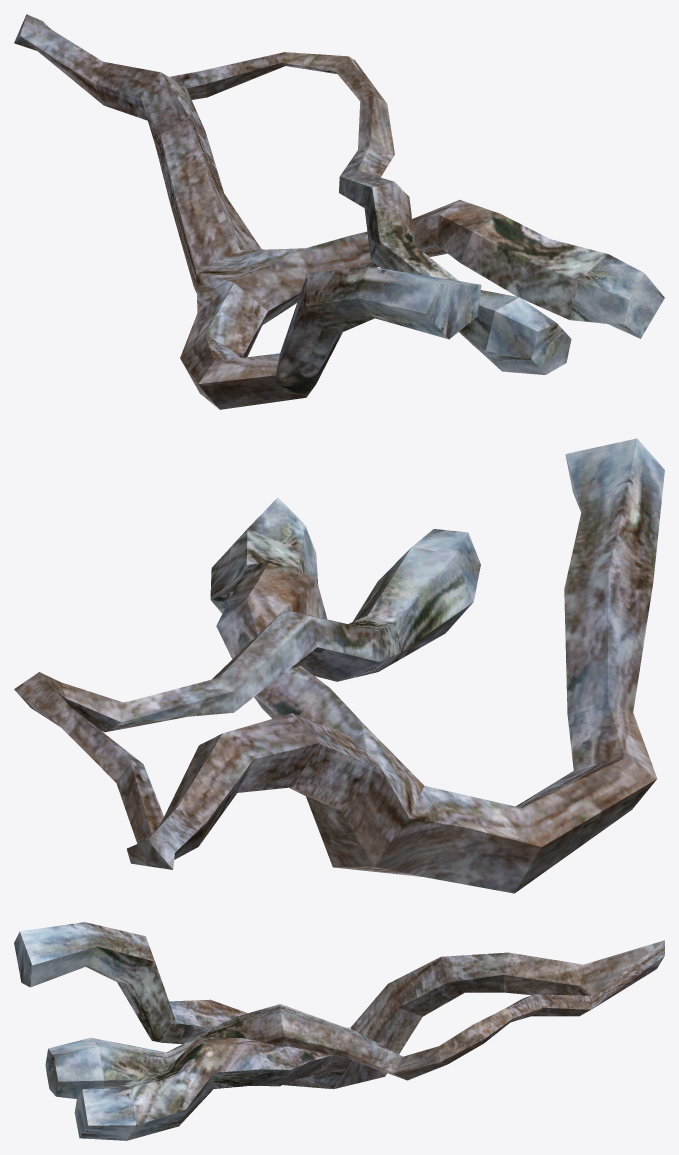
File: Ice_tree06.FBX
The picture shows the model from 3 angles, top to bottom: view 1: azimuth 30°, elevation 25°; view 2: azimuth 150°, elevation 25°; view 3: azimuth 270°, elevation 25°; orthographic projection. The views are drawn at different scales.
Visible parts, largest first — view 1: objpolySurface313_polySurface594; view 2: objpolySurface313_polySurface594; view 3: objpolySurface313_polySurface594.
Part boxes in pixels (bbox=[...]): objpolySurface313_polySurface594: bbox=[14, 14, 664, 409]; objpolySurface313_polySurface594: bbox=[14, 438, 664, 893]; objpolySurface313_polySurface594: bbox=[14, 922, 664, 1140].
Size of the model in its own units: 1540 by 801 by 2712.
